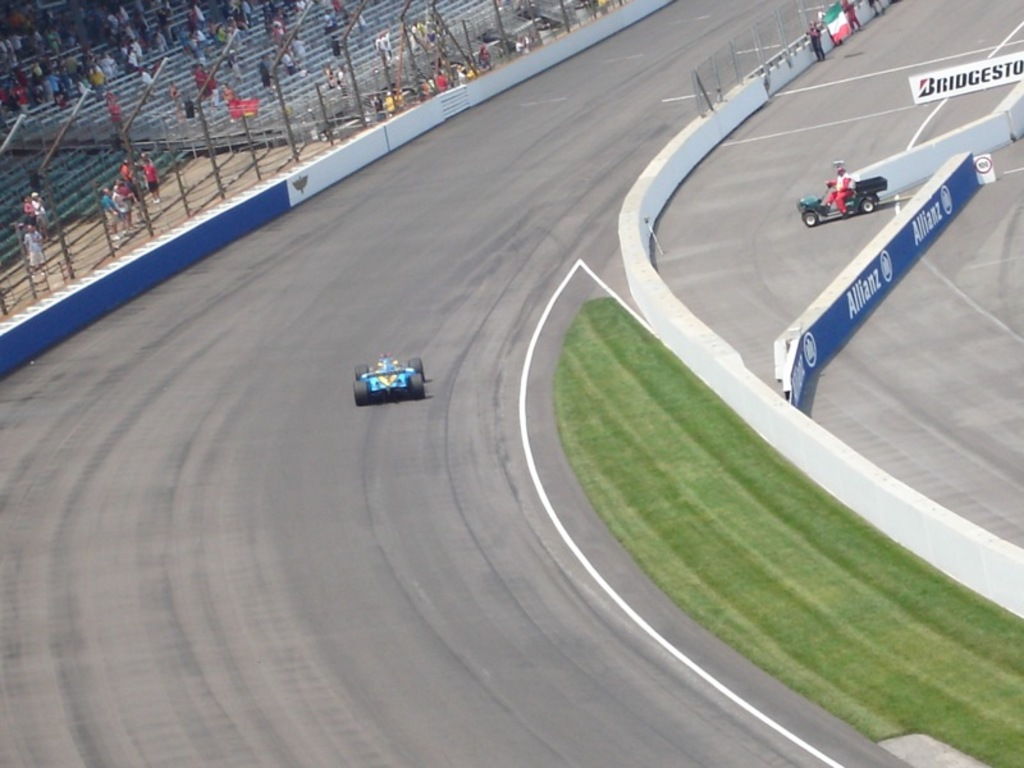Car: (353, 350, 422, 404)
